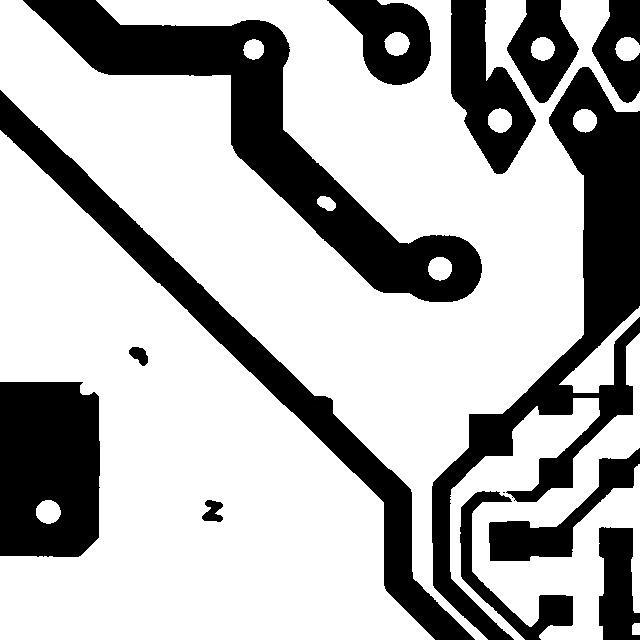copper: (192, 490, 232, 531), (119, 337, 157, 375)
mousebite: (70, 373, 104, 404)
open: (489, 482, 527, 514)
pin-hole: (307, 186, 345, 220)
short: (560, 383, 609, 407)
spur: (293, 386, 344, 430)
